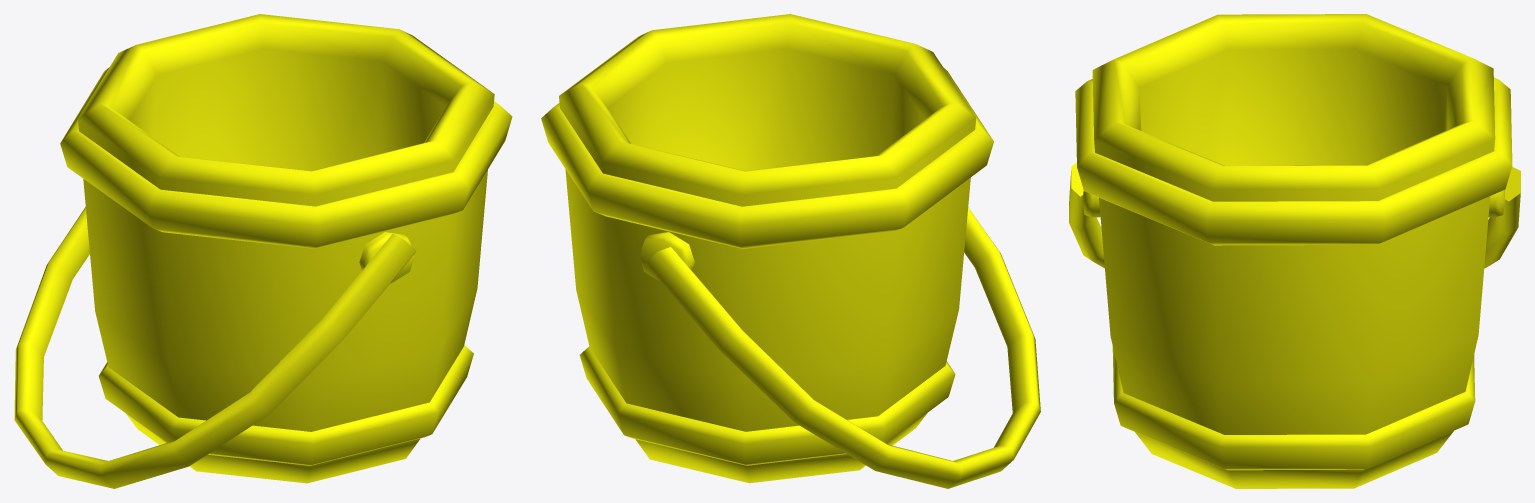
File: Bucket_1.fbx
The picture shows the model from 3 angles, left to right: view 1: azimuth 30°, elevation 25°; view 2: azimuth 150°, elevation 25°; view 3: azimuth 270°, elevation 25°; orthographic projection. The views are drawn at different scales.
Parts seen in each view (by area): view 1: Bucket_1; view 2: Bucket_1; view 3: Bucket_1.
Boxes of the visible parts, x1,y1,x2,y2 form: Bucket_1: (14, 14, 512, 488); Bucket_1: (541, 14, 1040, 488); Bucket_1: (1069, 14, 1520, 488).
Size of the model in its own units: 53.1 by 38.95 by 47.13.
